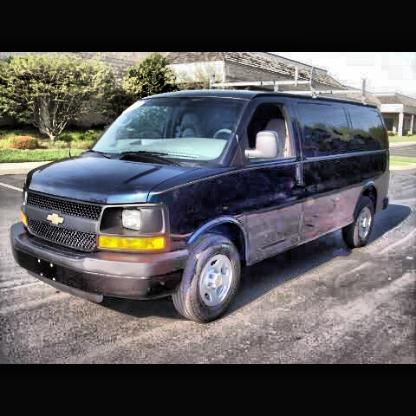Chevrolet Express Van 2007: (8, 84, 395, 328)
